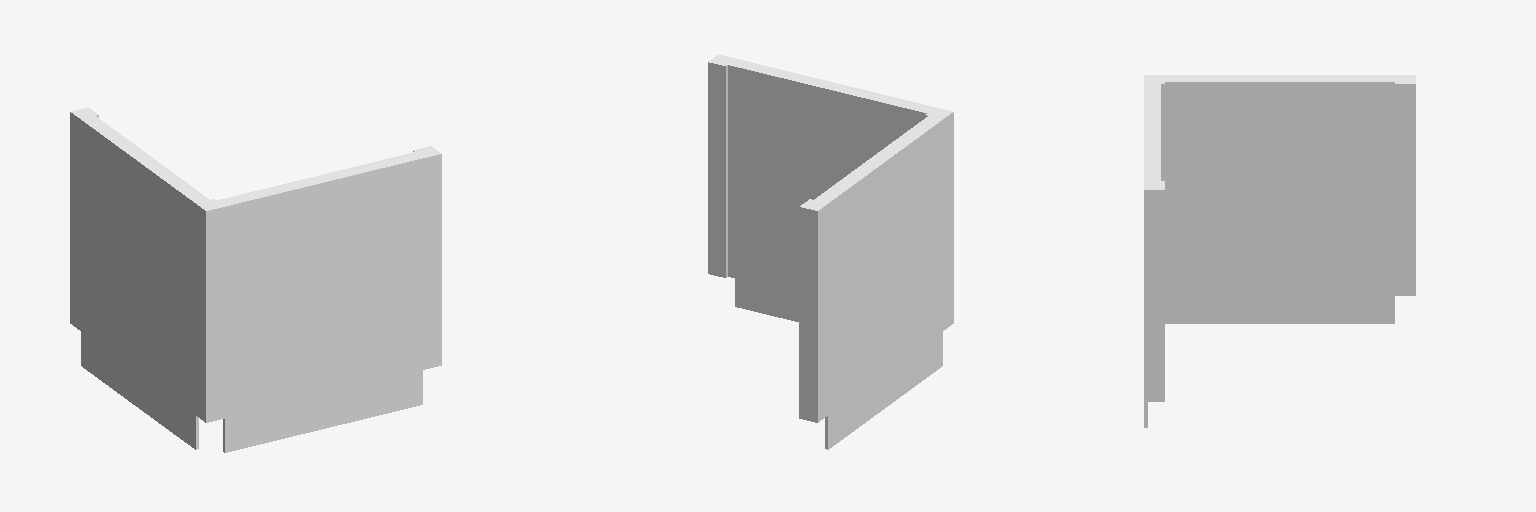
Rendered from Wall-NE.obj.
The picture shows the model from 3 angles: view 1: azimuth 30°, elevation 25°; view 2: azimuth 150°, elevation 25°; view 3: azimuth 270°, elevation 25°; orthographic projection.
Bounding box in the file's own units: 64 × 64 × 64.